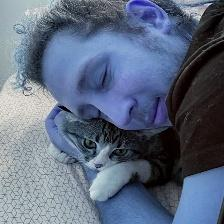kedo: (47, 113, 175, 201)
